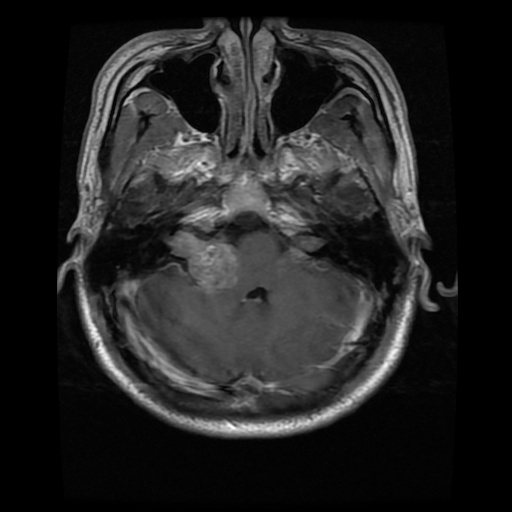meningioma: (166, 229, 237, 284)
